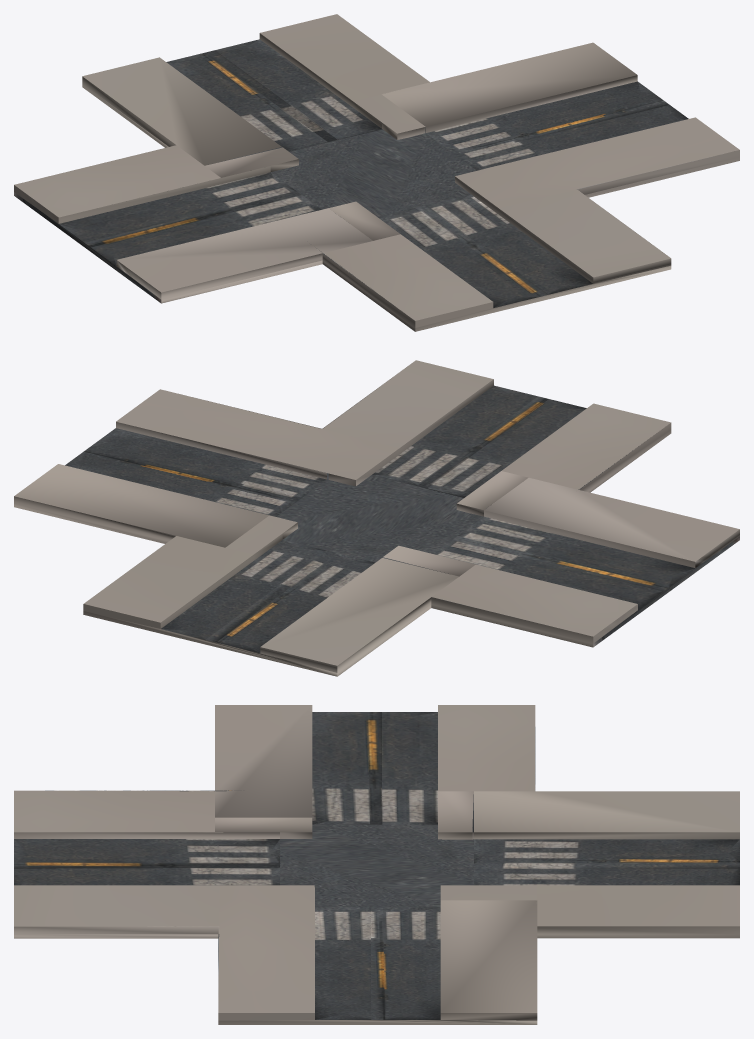
Rendered from 4 yol.fbx.
3 renders of one model, top to bottom at view 1: azimuth 30°, elevation 25°; view 2: azimuth 150°, elevation 25°; view 3: azimuth 270°, elevation 25°, orthographic. The views are drawn at different scales.
Parts seen in each view (by area): view 1: Uçak.001; view 2: Uçak.001; view 3: Uçak.001.
Boxes of the visible parts, x1=… form: Uçak.001: x1=14, y1=14, x2=739, y2=331; Uçak.001: x1=14, y1=360, x2=739, y2=676; Uçak.001: x1=14, y1=705, x2=739, y2=1024.
Size of the model in its own units: 3260 by 58.83 by 3250.
Materials: 1 (1 with a texture image).
